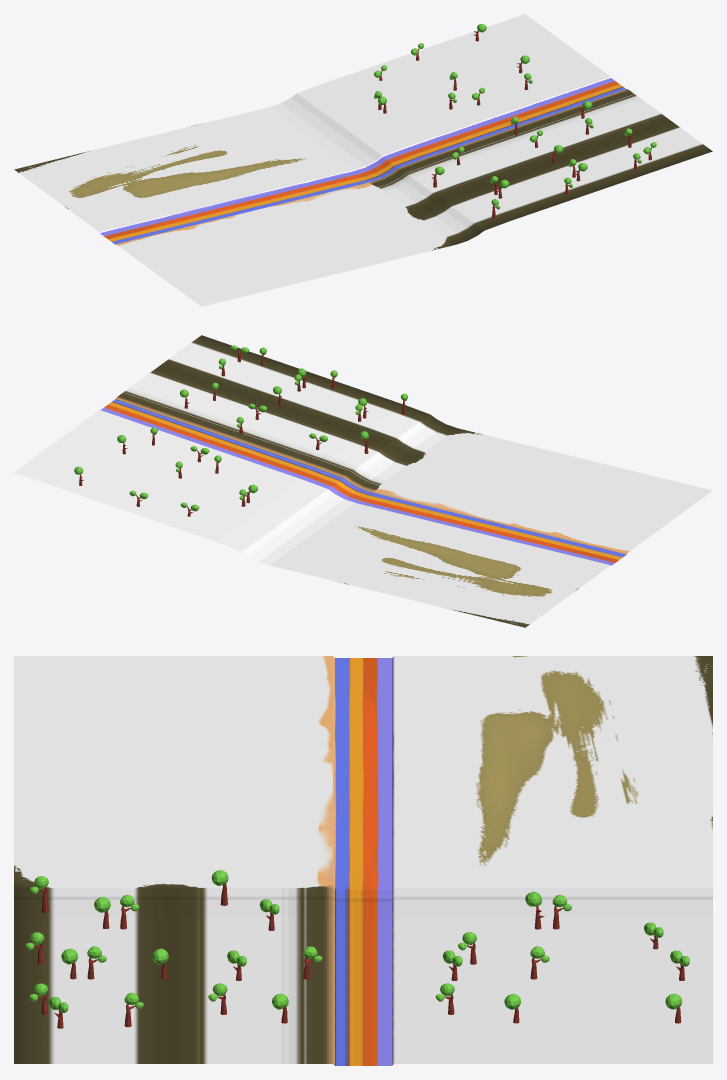
File: forestBgeinPart(2).fbx
The picture shows the model from 3 angles, top to bottom: view 1: azimuth 30°, elevation 25°; view 2: azimuth 150°, elevation 25°; view 3: azimuth 270°, elevation 25°; orthographic projection. The views are drawn at different scales.
Parts seen in each view (by area): view 1: forestBgeinPart; view 2: forestBgeinPart; view 3: forestBgeinPart.
Boxes of the visible parts, x1=… form: forestBgeinPart: x1=14, y1=14, x2=712, y2=306; forestBgeinPart: x1=14, y1=335, x2=712, y2=627; forestBgeinPart: x1=14, y1=656, x2=712, y2=1065.
Bounding box in the file's own units: 28417 × 2342 × 18053.
